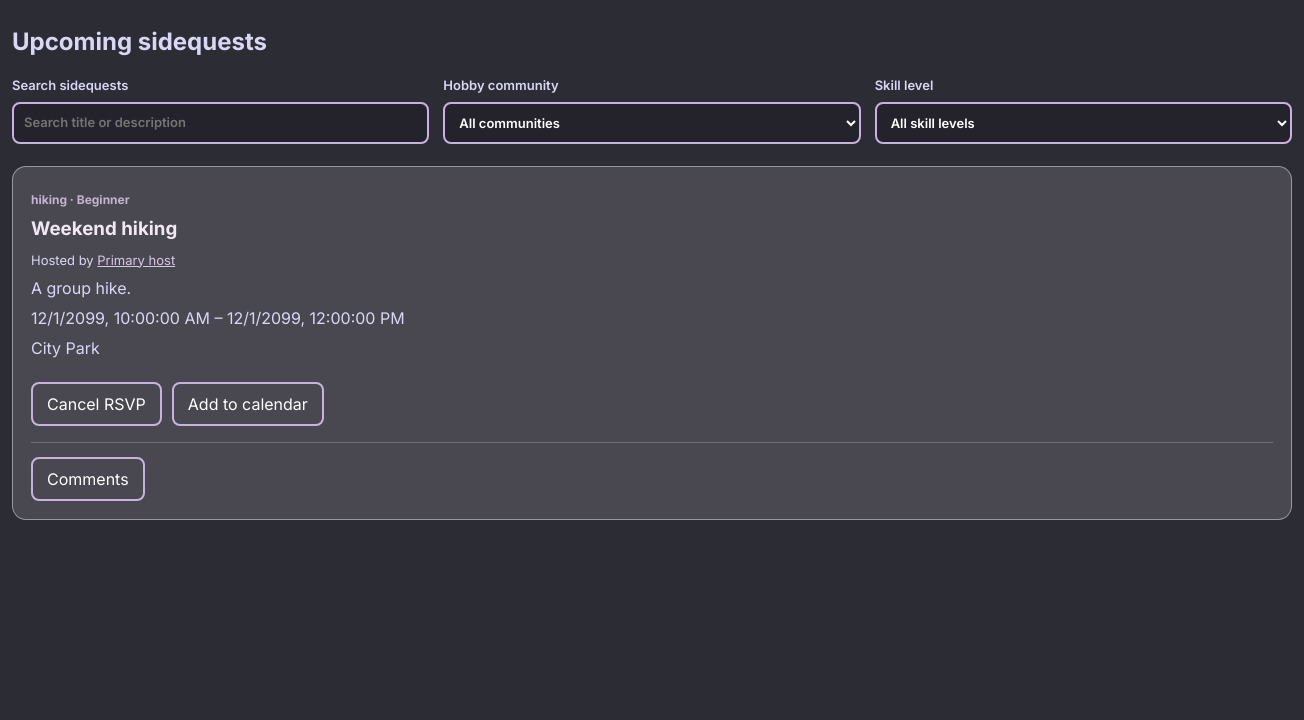
closed popup preserves attendance and leaves calendar addition available
Click the button "Add to calendar".
click(248, 404)  # box x1=172 y1=382 x2=324 y2=426
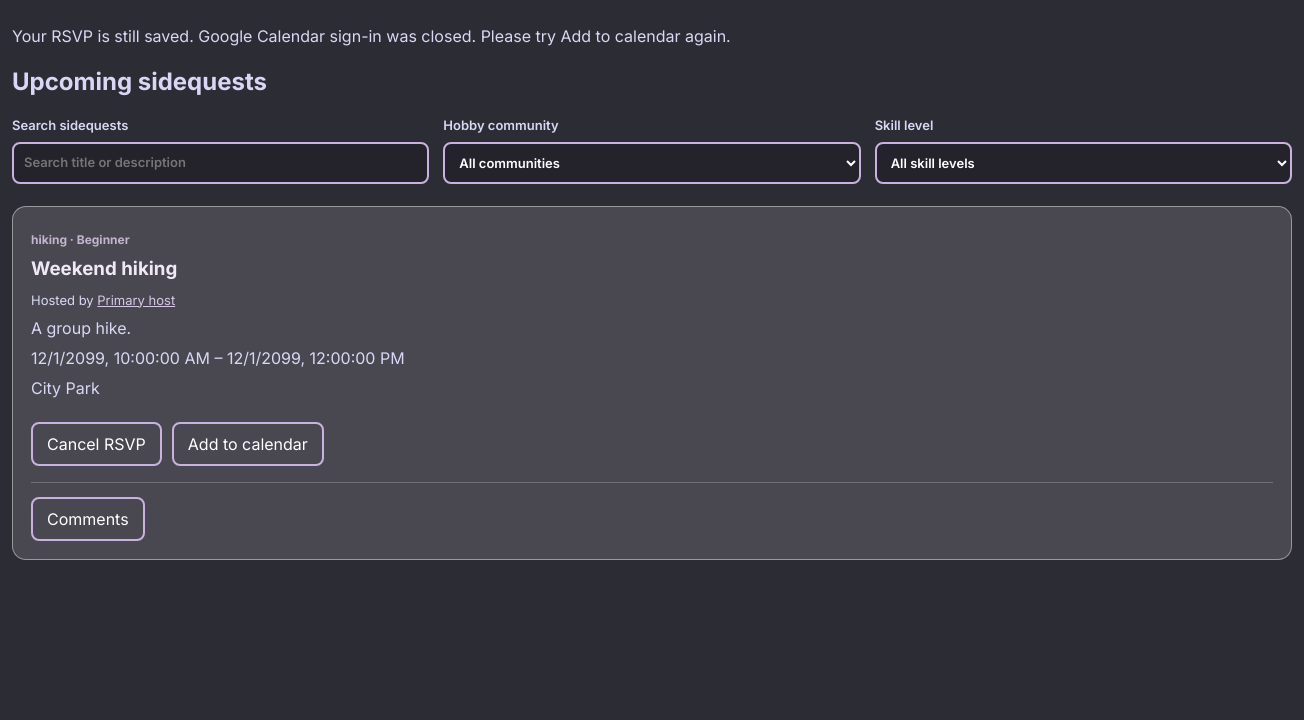
Expected: the button "Cancel RSVP" is shown, x1=31 y1=422 x2=162 y2=466
Expected: the message shows "Google Calendar sign-in was closed.", x1=12 y1=26 x2=731 y2=46
